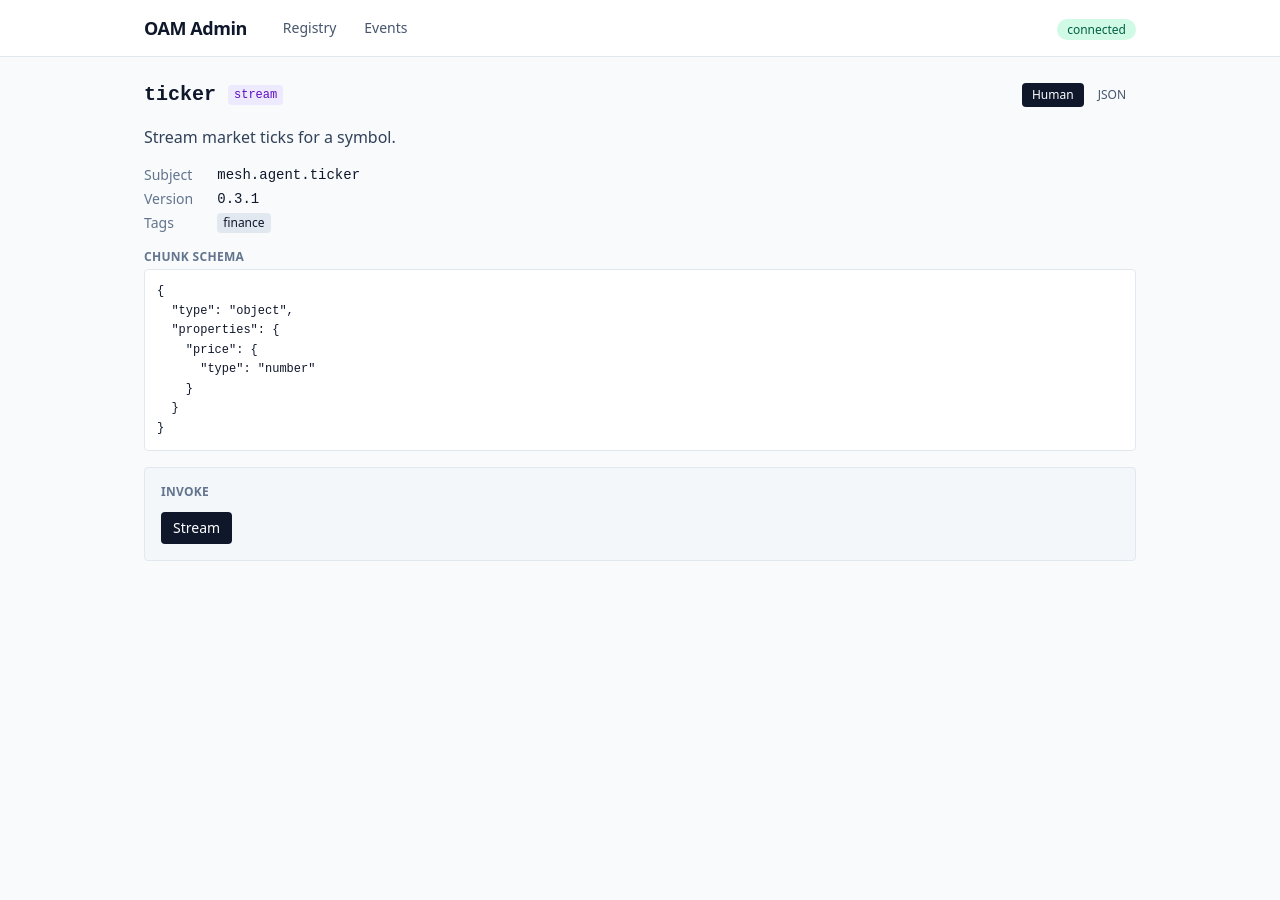
Test: invocation sandbox › renders a mid-stream error envelope and keeps received chunks
Click the button "Stream": point(197, 528) [161,512,232,544]
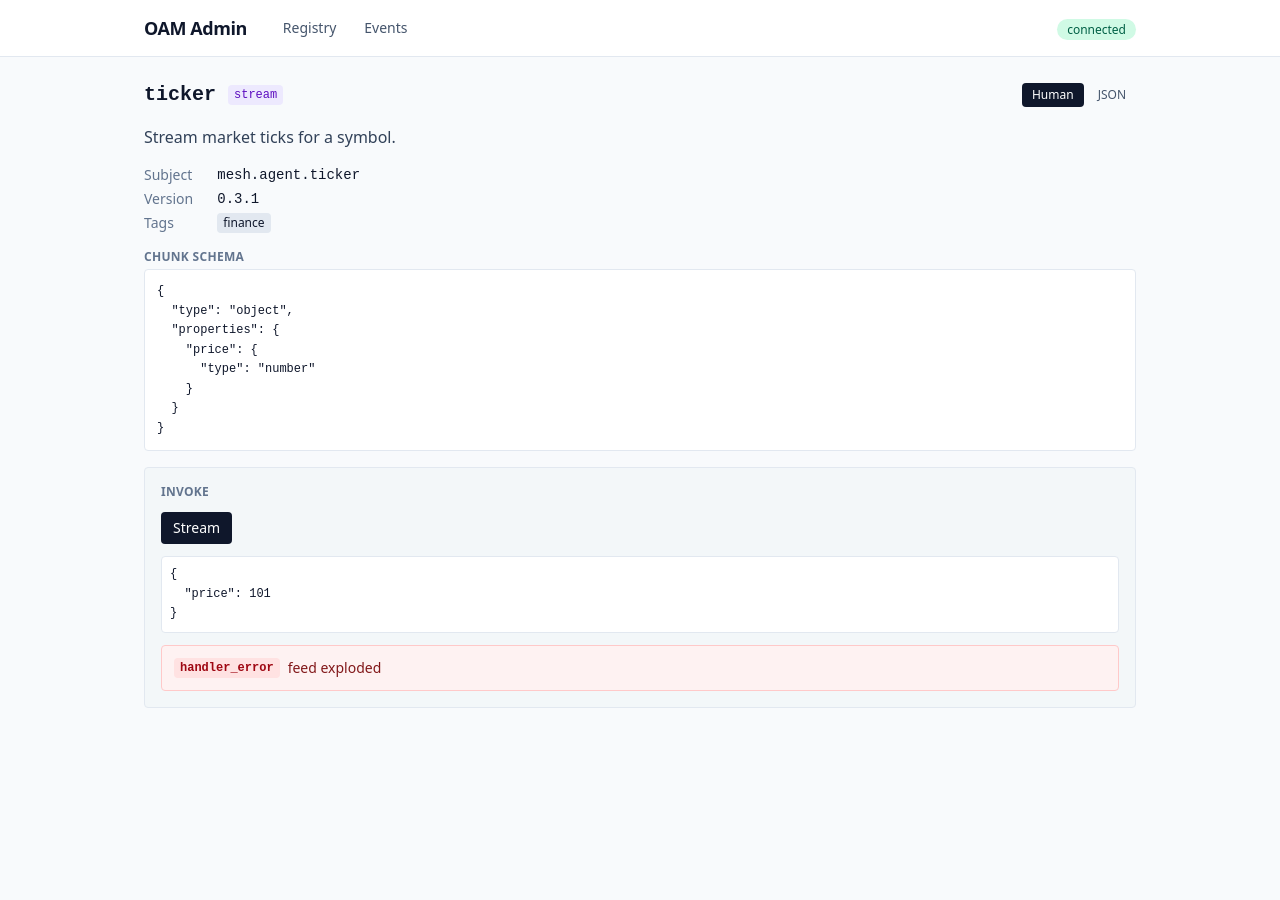
Expected: the text "handler_error" is shown, [174,658,280,678]
Expected: the text "feed exploded" is shown, [288,658,381,678]
Expected: the text "{ \"price\": 101 }" is shown, [161,556,1119,632]
